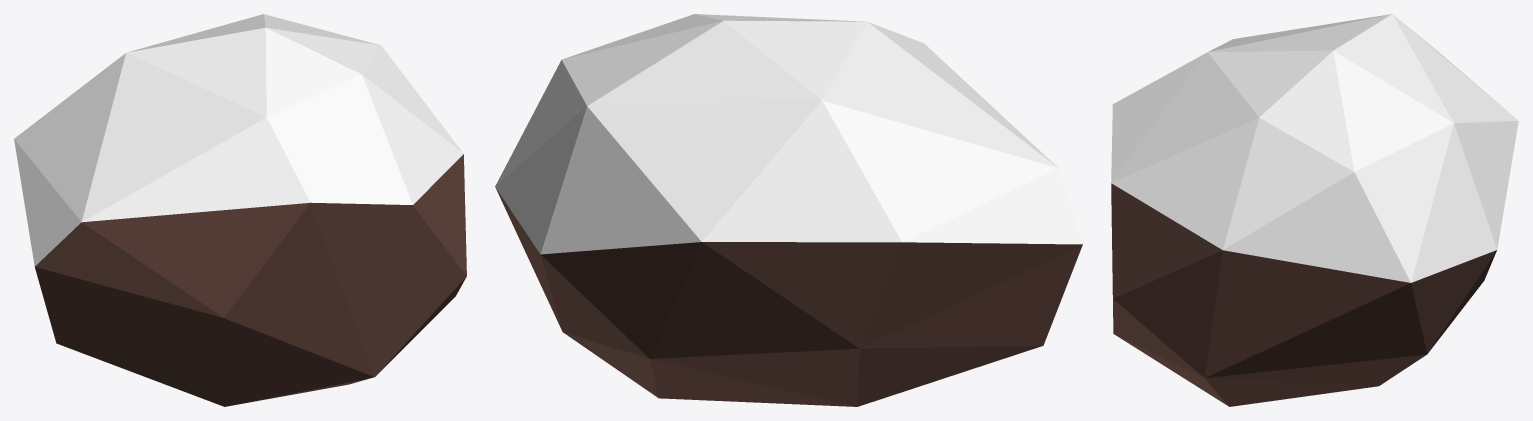
File: snow_stone_009.fbx
The picture shows the model from 3 angles, left to right: view 1: azimuth 30°, elevation 25°; view 2: azimuth 150°, elevation 25°; view 3: azimuth 270°, elevation 25°; orthographic projection. The views are drawn at different scales.
Visible parts, largest first — view 1: snow_stone_009; view 2: snow_stone_009; view 3: snow_stone_009.
Part boxes in pixels (bbox=[...]): snow_stone_009: bbox=[14, 14, 466, 406]; snow_stone_009: bbox=[495, 14, 1082, 406]; snow_stone_009: bbox=[1111, 14, 1518, 406].
Size of the model in its own units: 280 by 228 by 209.
